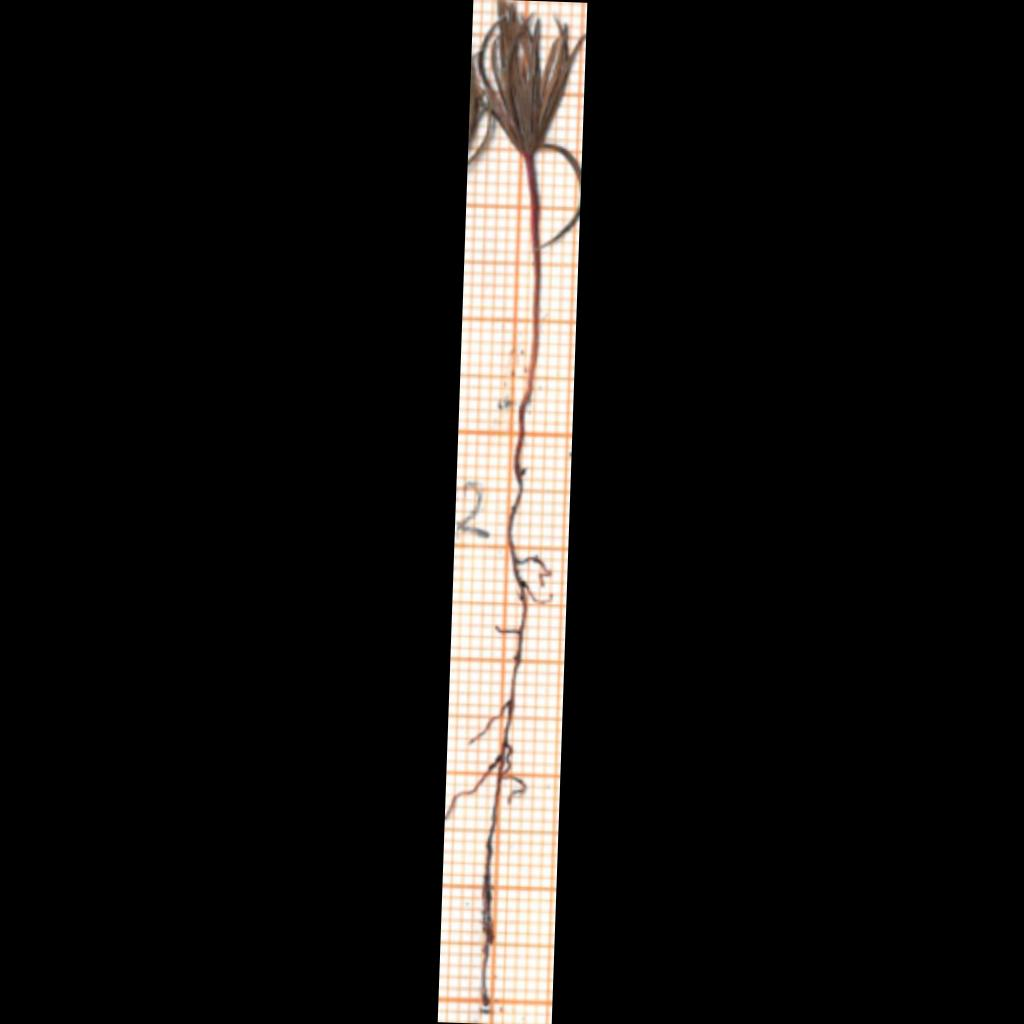flowerPinus: (479, 0, 585, 183)
rootPinus: (445, 409, 548, 1009)
stemPinus: (523, 158, 540, 410)
